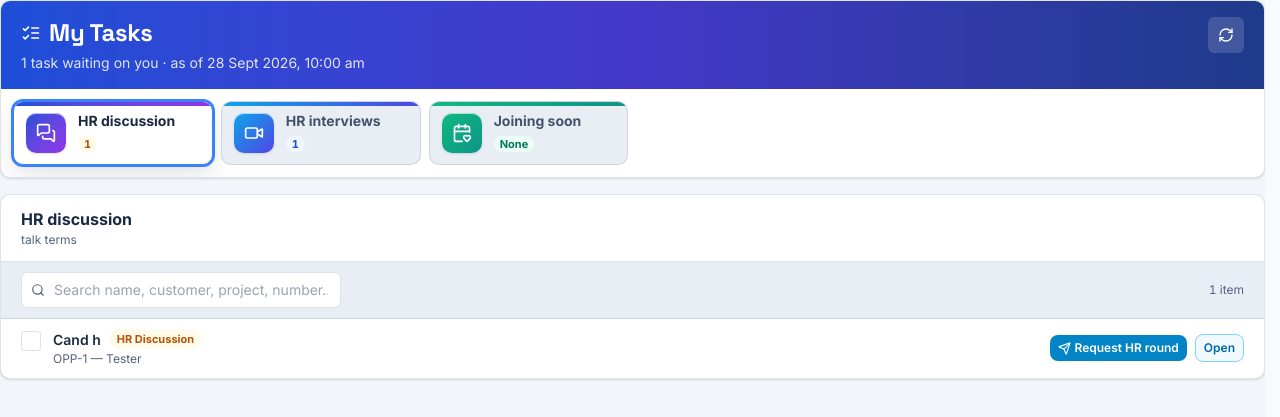
MyTasksPage › HR gets the HR tabs: request the HR round in place, join a booked one
expect the button "Request HR round" is shown: met, box [1050,335,1187,361]
Click the tab "HR interviews 1" at (321, 133), box [221,101,421,165]
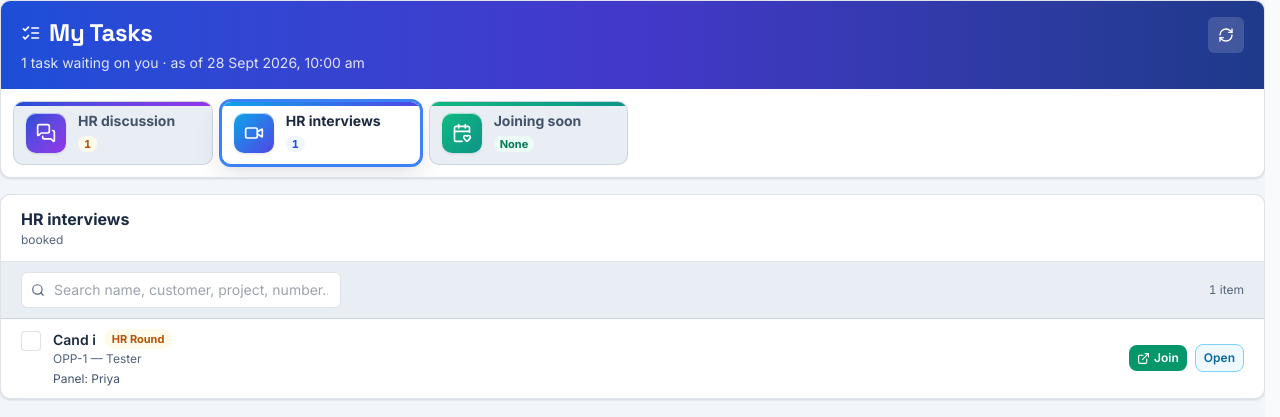
expect the text "Panel: Priya" is shown: met, box [53,371,120,386]
